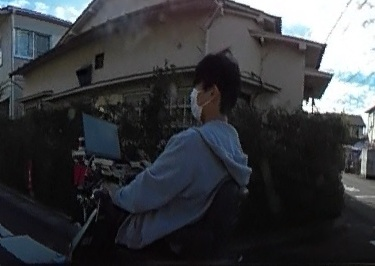person: (93, 50, 249, 245)
